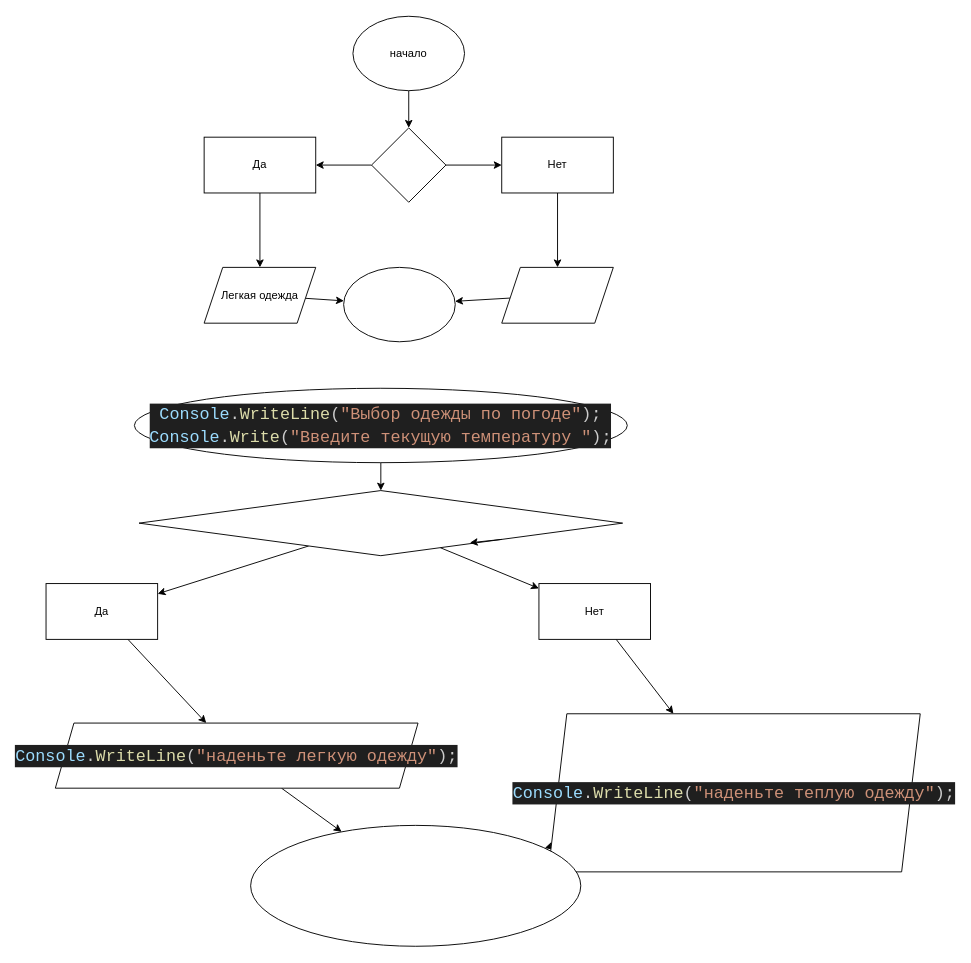
Image size: 971x963. Some labels were removed from this diagram. Each missing label, with the centre of its shape:
Console . WriteLine ( "Хорошего дня" );: (415,885)
int temp = Convert . ToInt32 ( Console . ReadLine ());: (380,523)
конец: (399,304)
температура >= 20?: (408,164)
Теплая одежда: (557,294)
